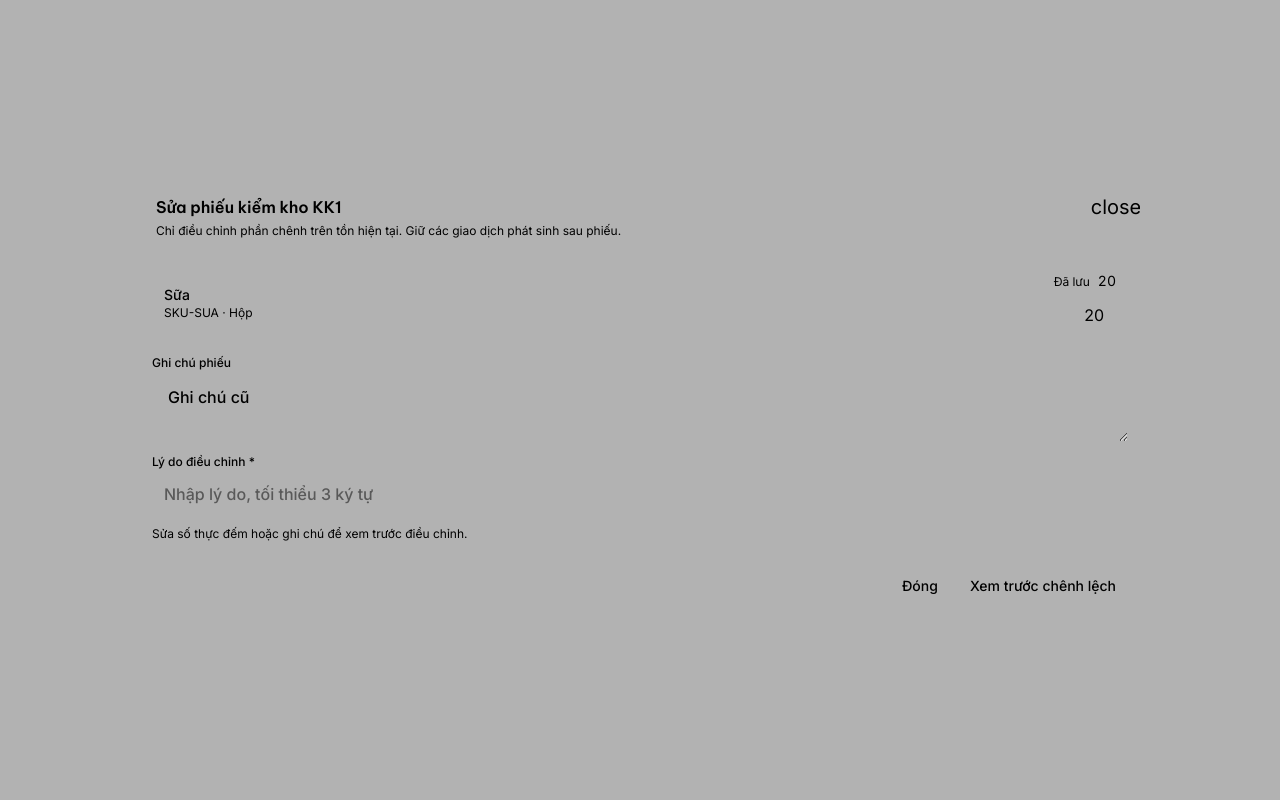
it: inventory correction workflow › removes stale confirmation while keeping the entered counts and reason
The width and height of the screenshot is (1280, 800).
Expected: the field named "Thực đếm sửa lại Sữa" is shown, top-left (996, 295), bottom-right (1116, 335)
In the field with placeholder "Nhập lý do, tối thiểu 3 ký tự": coordinates (640, 493) top-left (152, 473), bottom-right (1128, 513), type "Đếm nhầm"
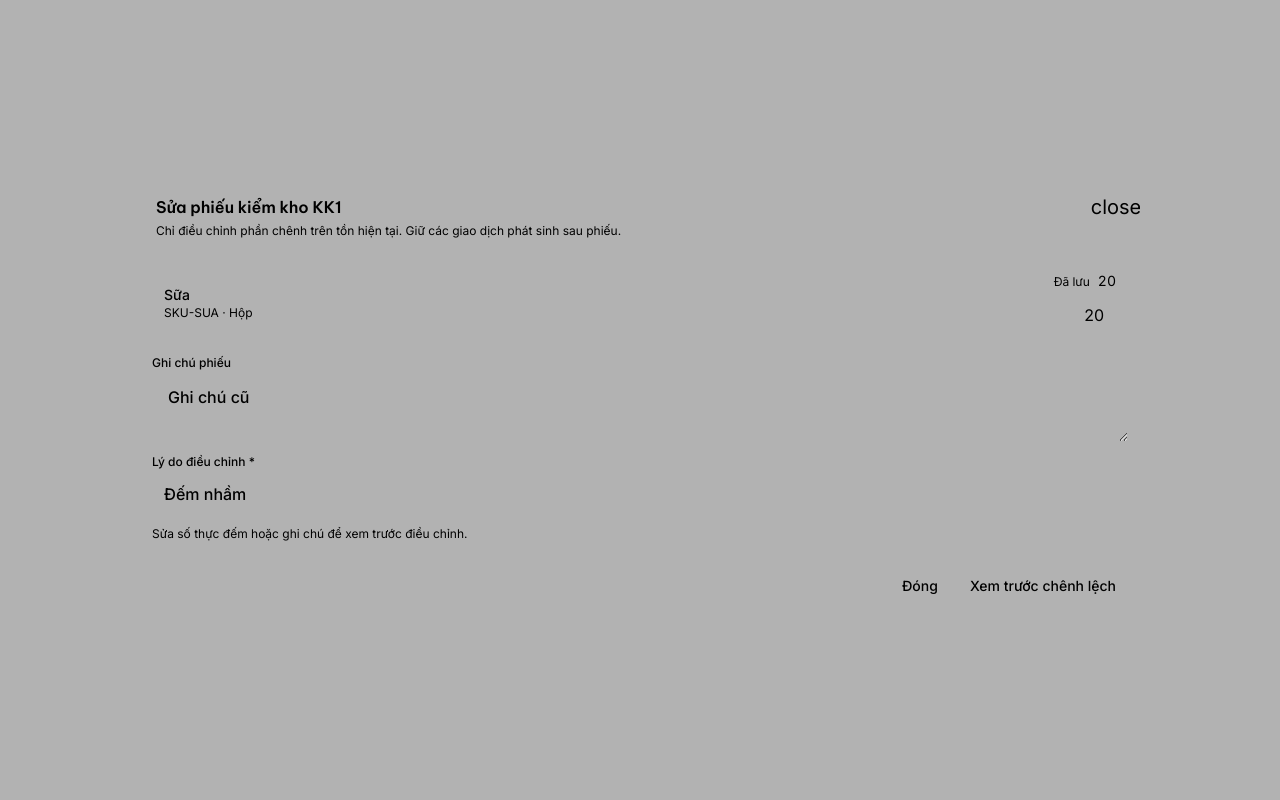
Replace the text in the field named "Thực đếm sửa lại Sữa" with "18": coordinates (1056, 315) top-left (996, 295), bottom-right (1116, 335)
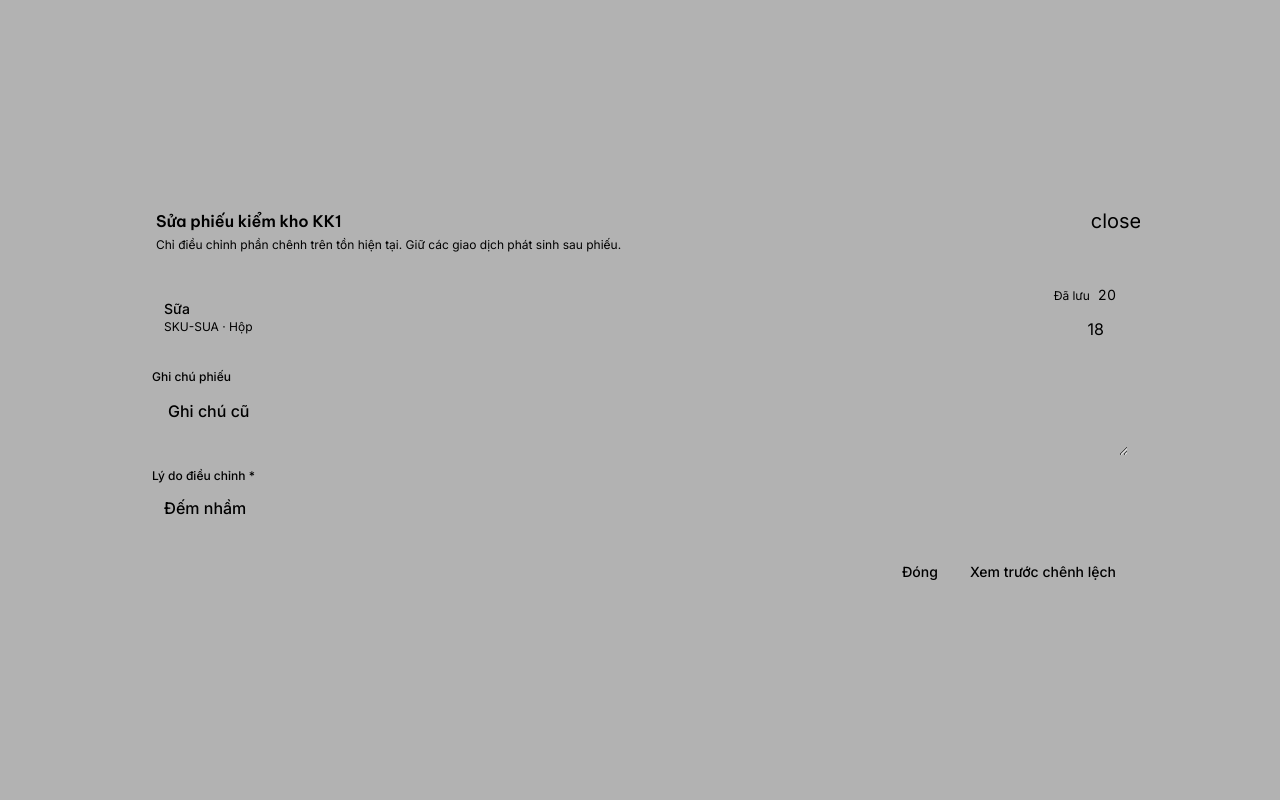
Click the button "Xem trước chênh lệch": coordinates (1043, 571) top-left (958, 551), bottom-right (1128, 591)
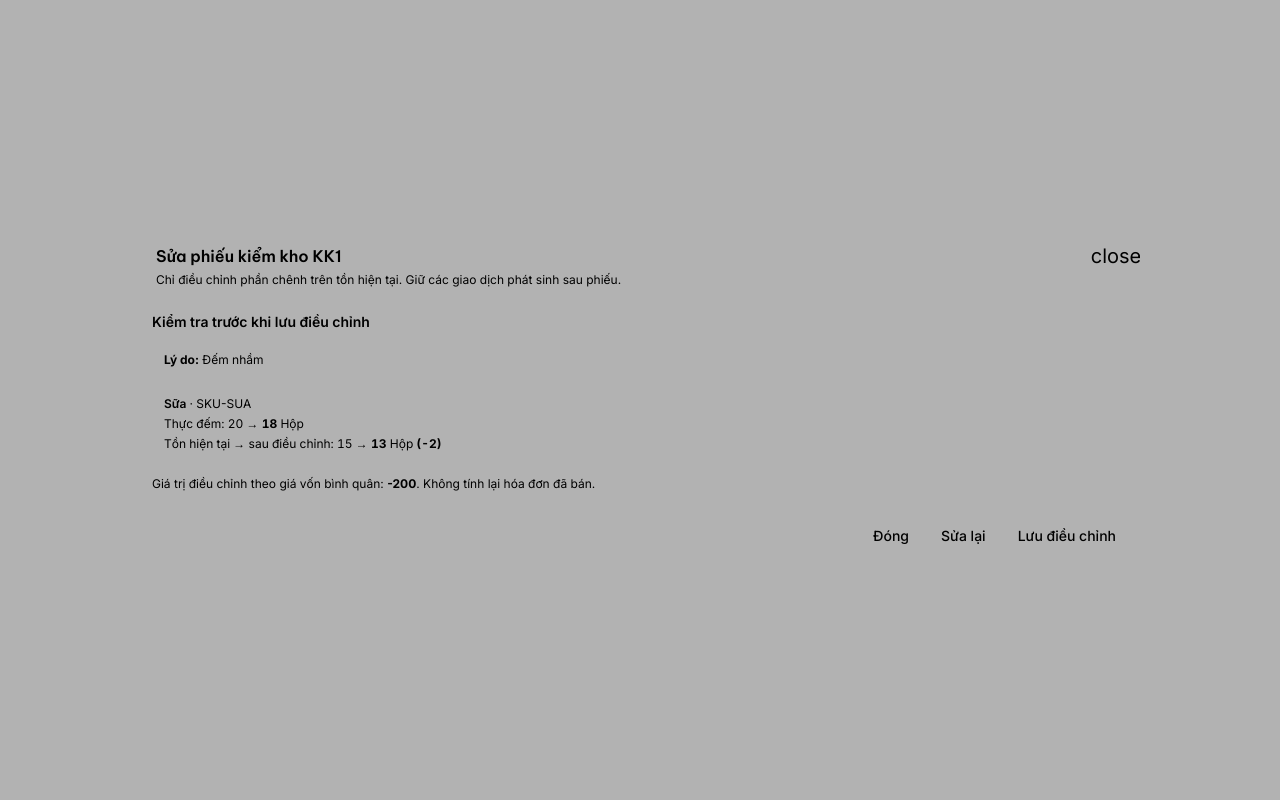
Click the button "Lưu điều chỉnh": coordinates (1067, 536) top-left (1006, 516), bottom-right (1128, 556)
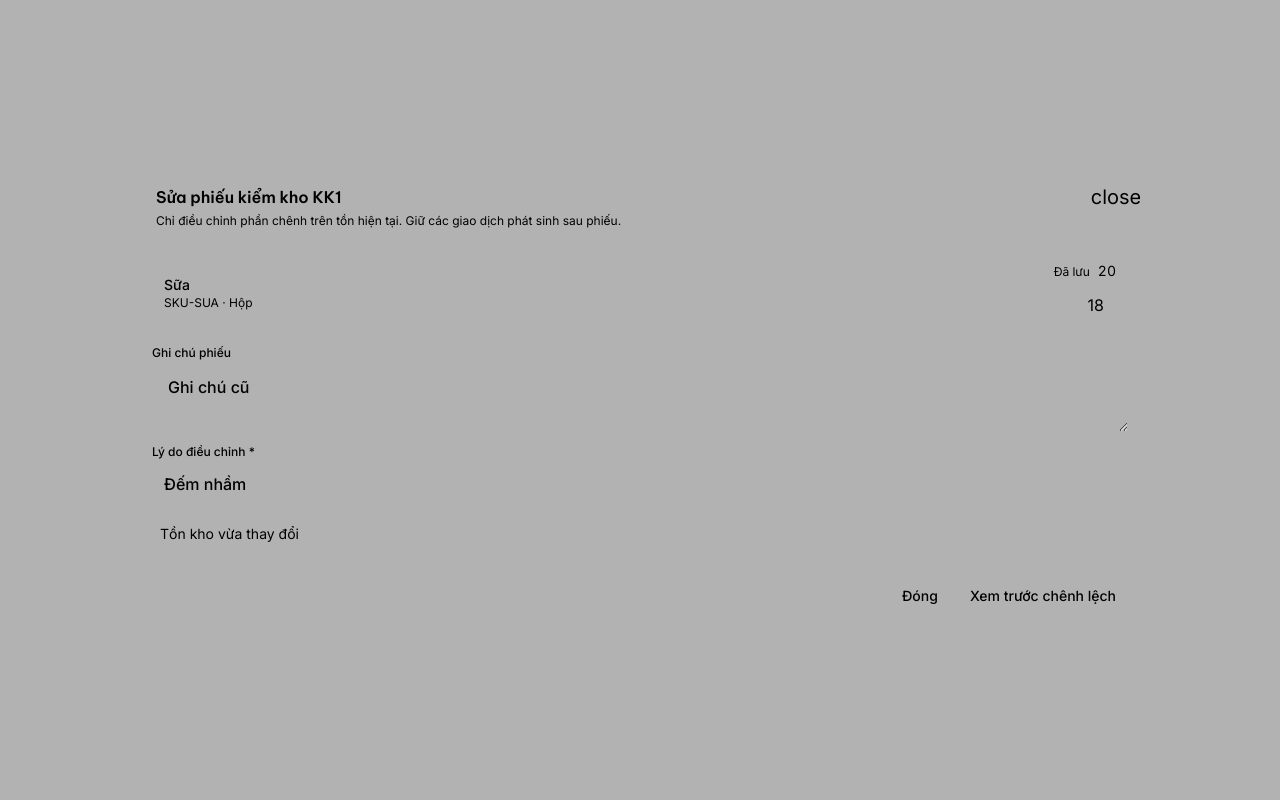
Now the text "Tồn kho vừa thay đổi" is shown, box top-left (160, 524), bottom-right (299, 541)
Now the heading "lưu điều chỉnh" is gone
Now the field named "Thực đếm sửa lại Sữa" holds "18", box top-left (996, 285), bottom-right (1116, 325)
